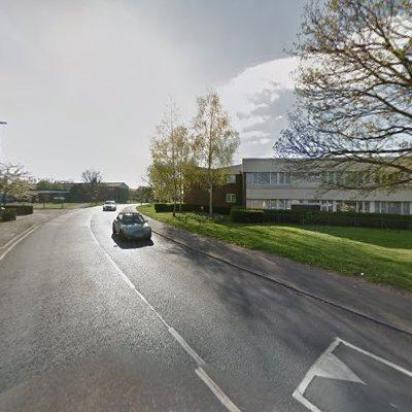moving-car: (112, 211, 152, 244), (102, 200, 118, 212)
